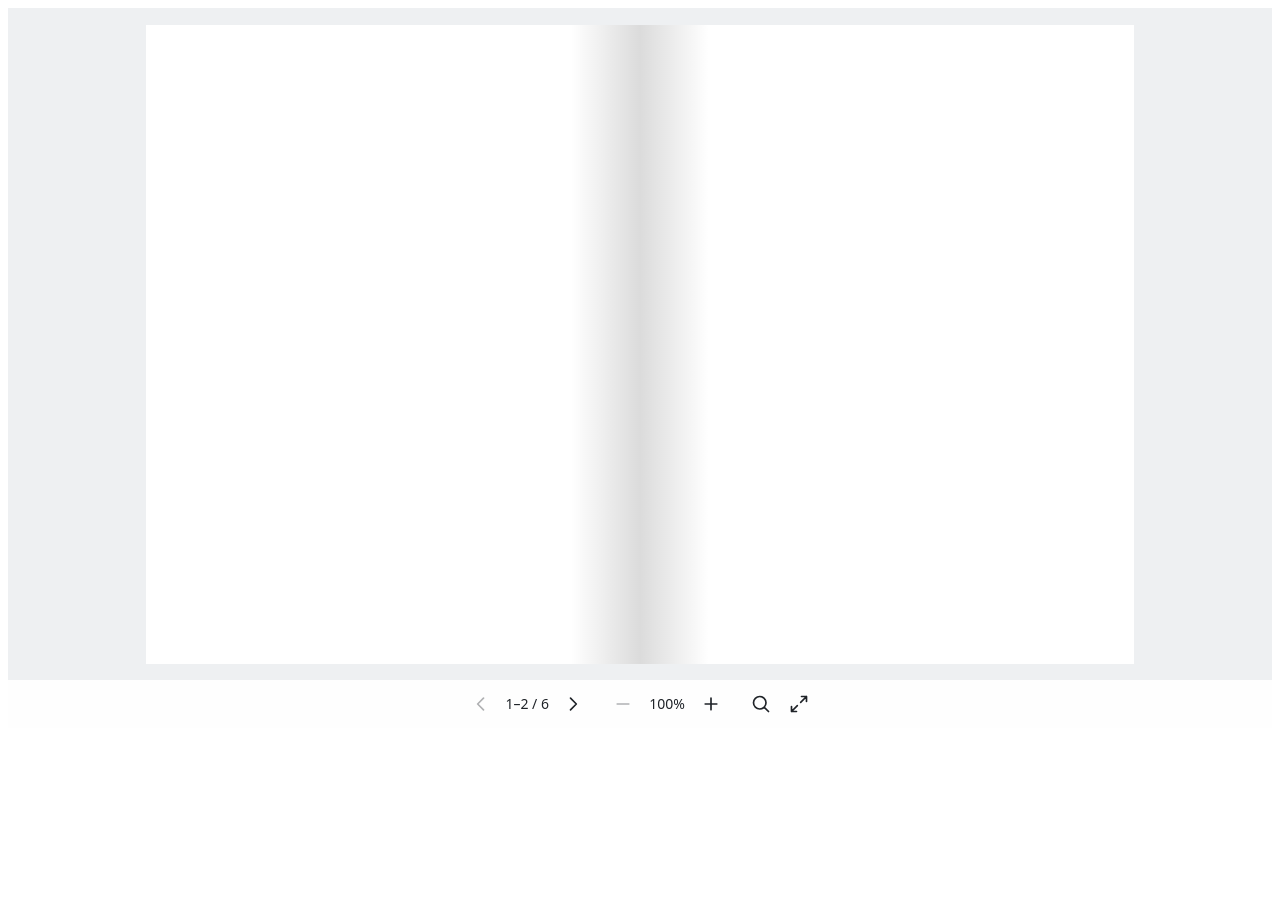
Test: search › finds every match, jumps to the first one at or after the current page, and highlights it
This screenshot has width=1280, height=900.
Click the button named "Search" at (761, 704), box [743,686,779,722]
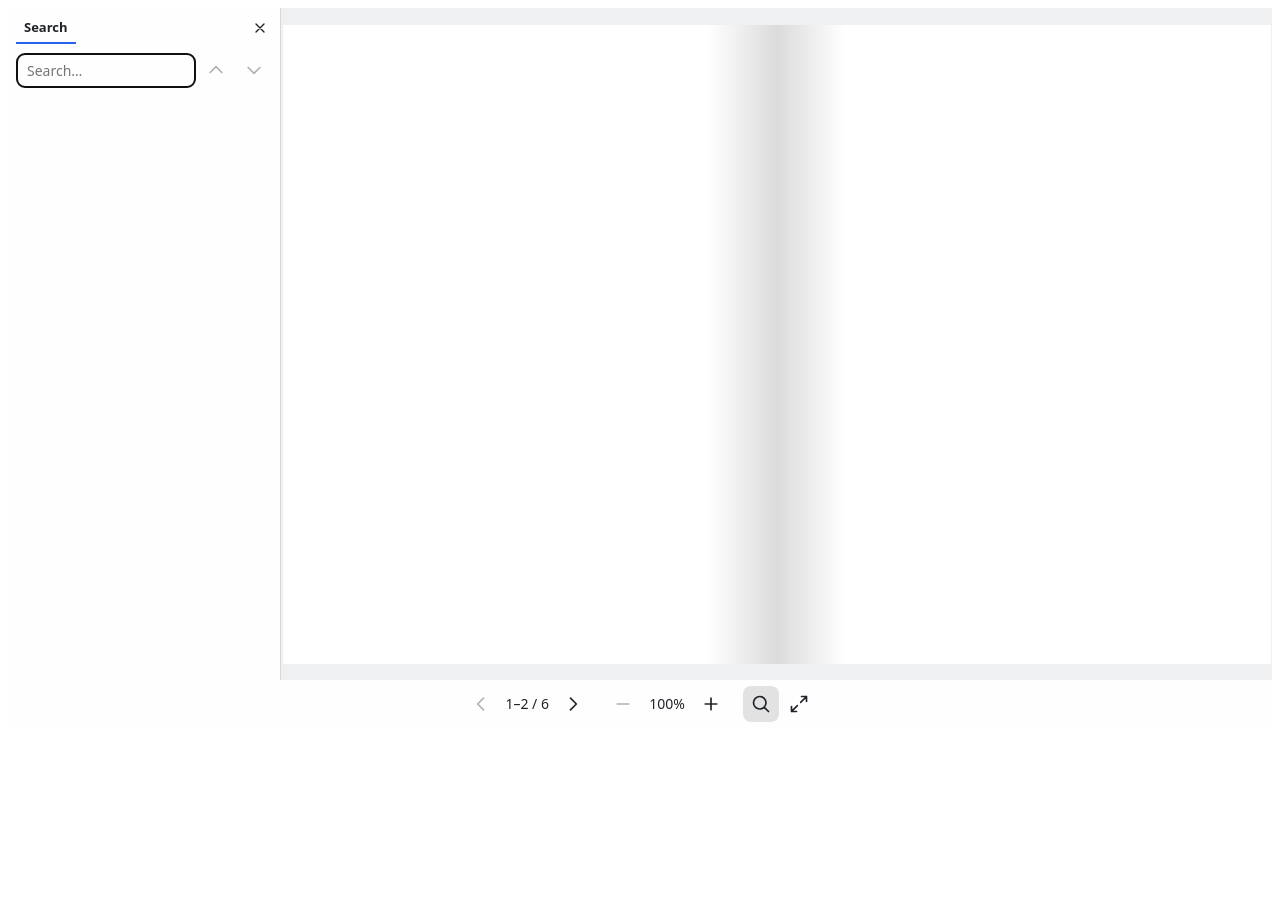
Type "needle" into the search field named "Search the document" at (106, 70), box [16,52,196,88]
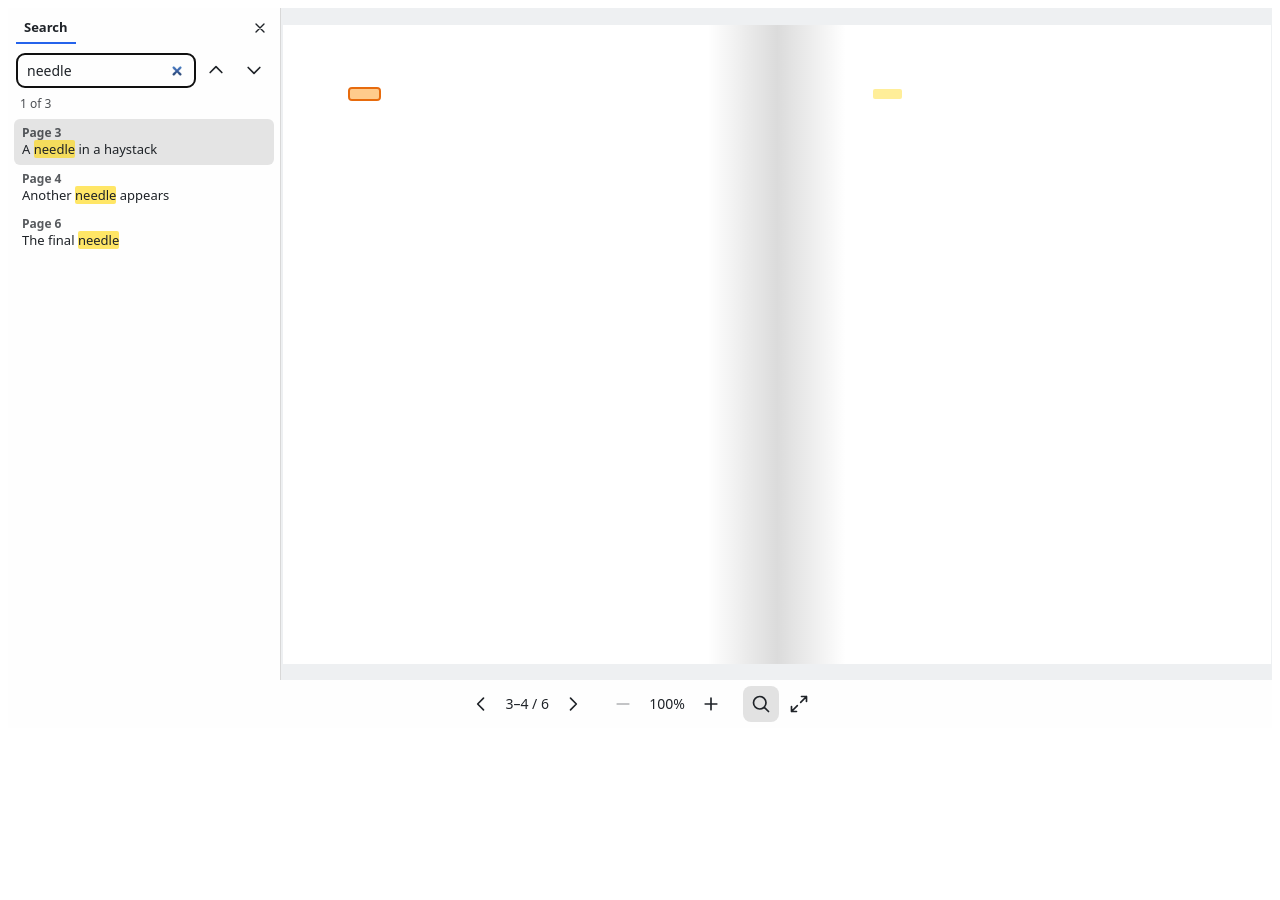
Check: the message reads "1 of 3", box [20,95,51,112]
Check: the number of buttons "Page 3 A needle in a haystack" is 3, box [14,119,274,164]; [14,164,274,210]; [14,210,274,256]
